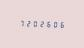seven: (17, 19, 23, 27)
six: (45, 20, 51, 28), (59, 20, 65, 28)
two: (38, 19, 44, 28), (24, 19, 30, 27)
zero: (31, 19, 37, 27), (52, 20, 58, 28)
